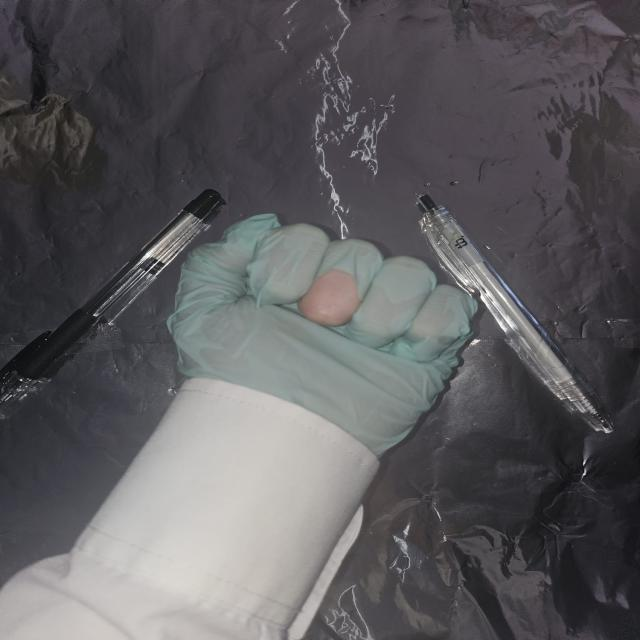gloves_damaged: (166, 211, 484, 456)
